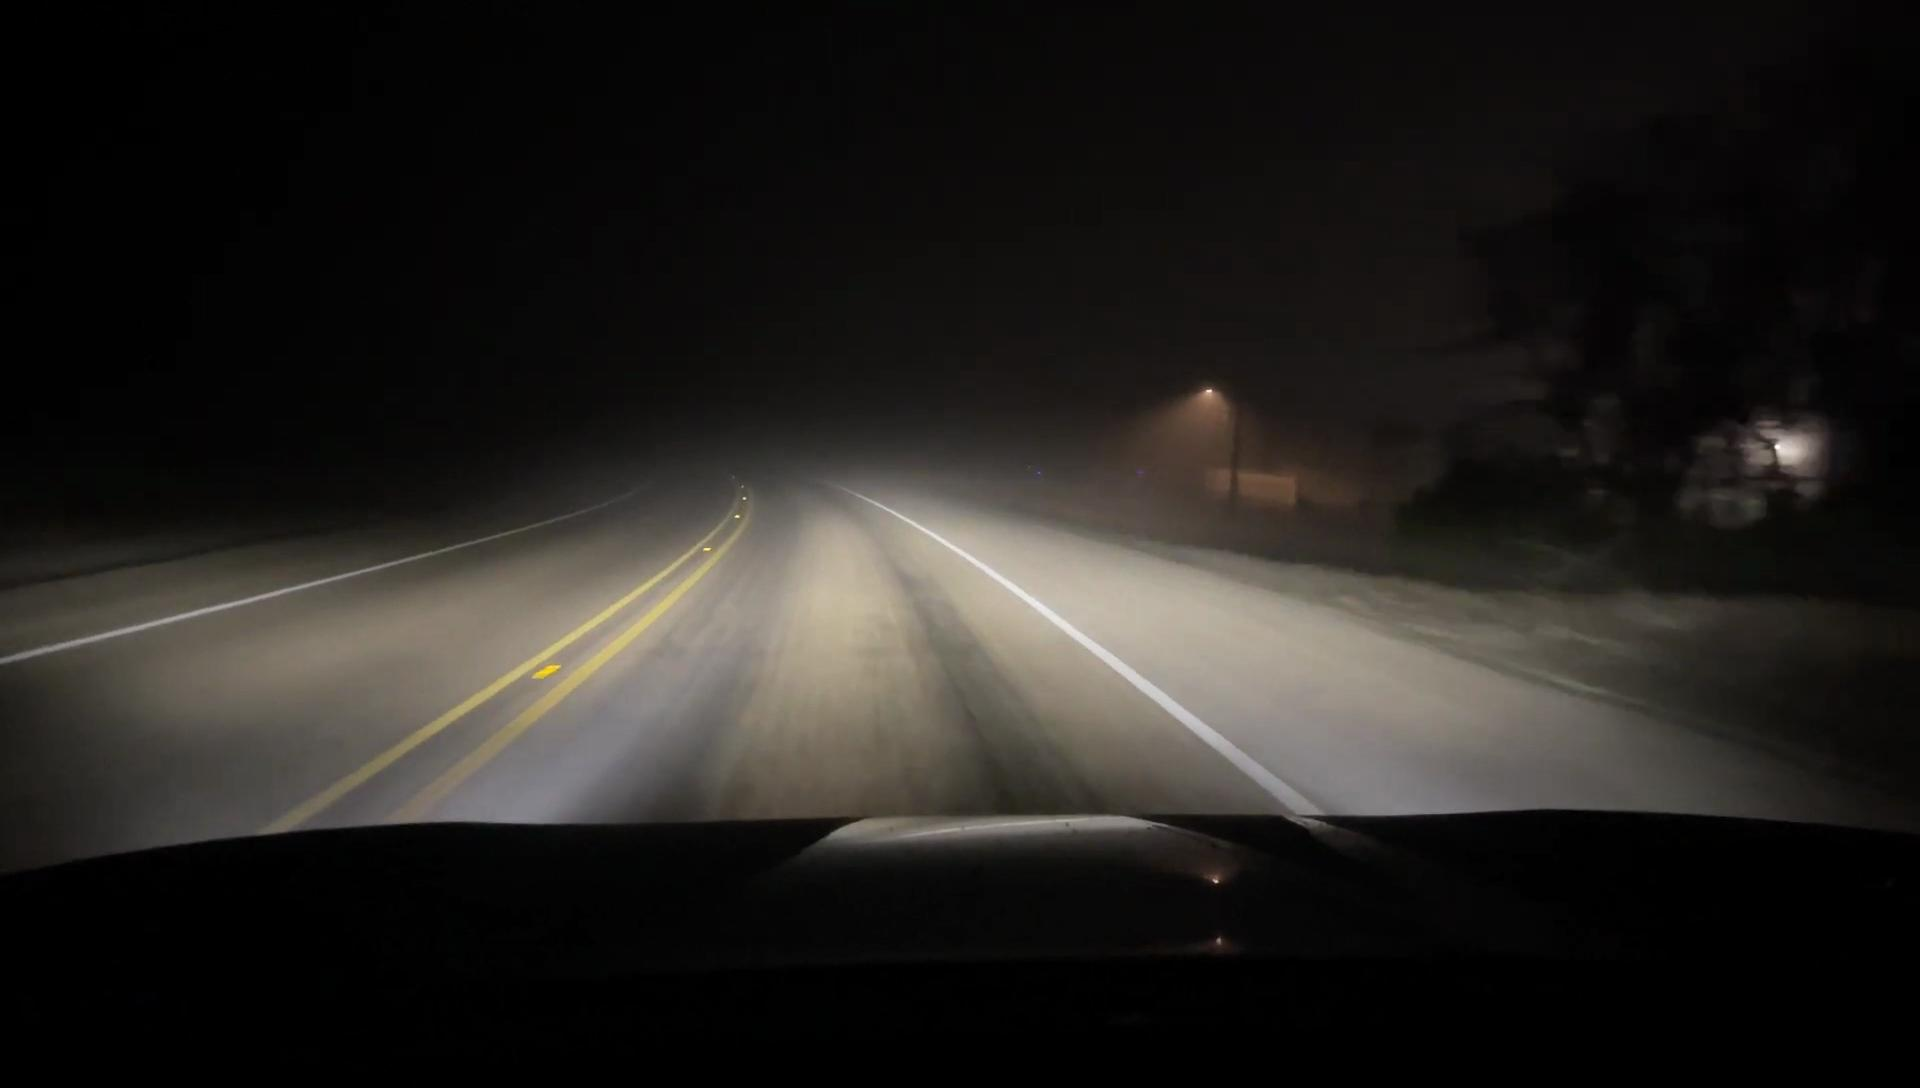road-lanes: (450, 491, 1296, 818)
